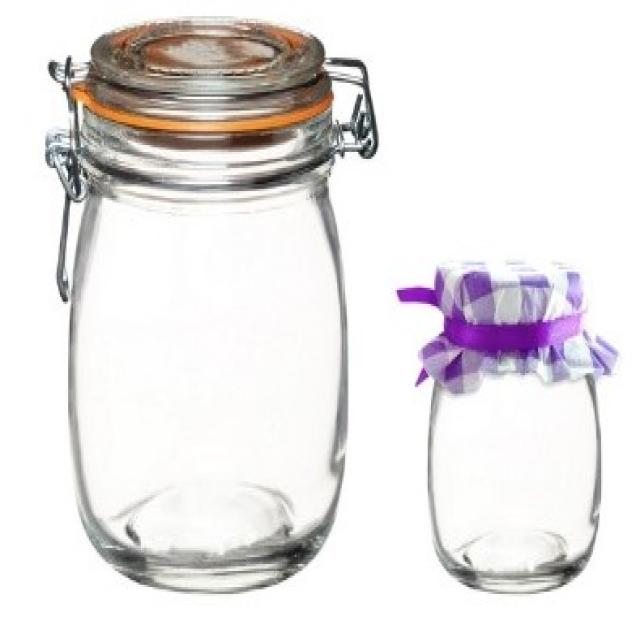electronic: (44, 16, 382, 596), (397, 253, 618, 596)
